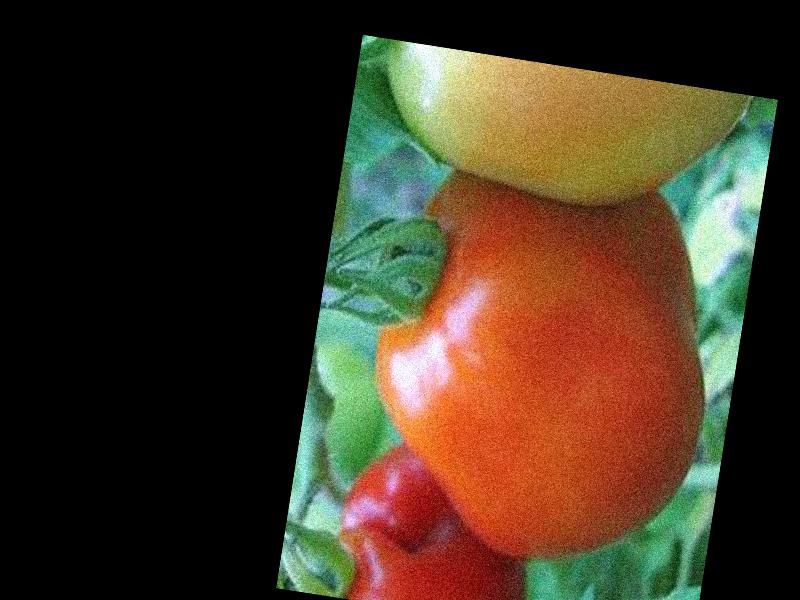Tomato: (348, 170, 733, 583)
